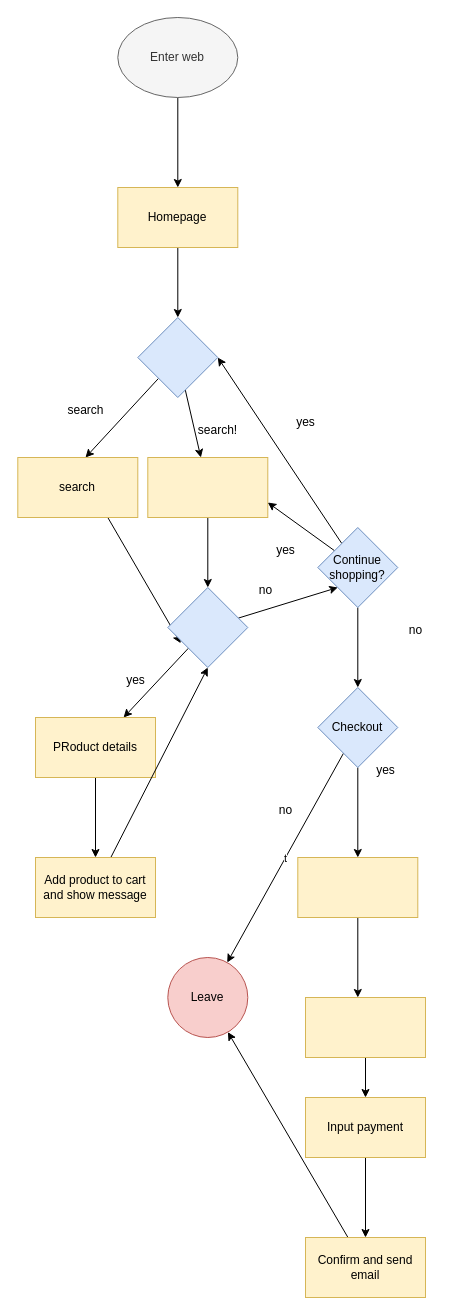
This 453x1315 diagram has some shape labels left out. The shapes that lost their labels are listed below. From the top down, each one's centre as x and y in pixels, then its label:
At (177,357): "Browse or search".
At (207,487): "Browse".
At (207,627): "View product?".
At (357,887): "View cart".
At (365,1027): "Payment".
